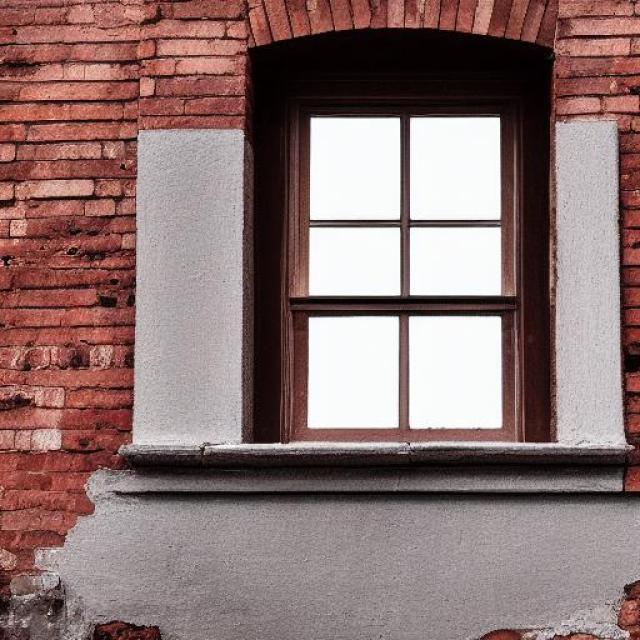window: (245, 54, 556, 442)
